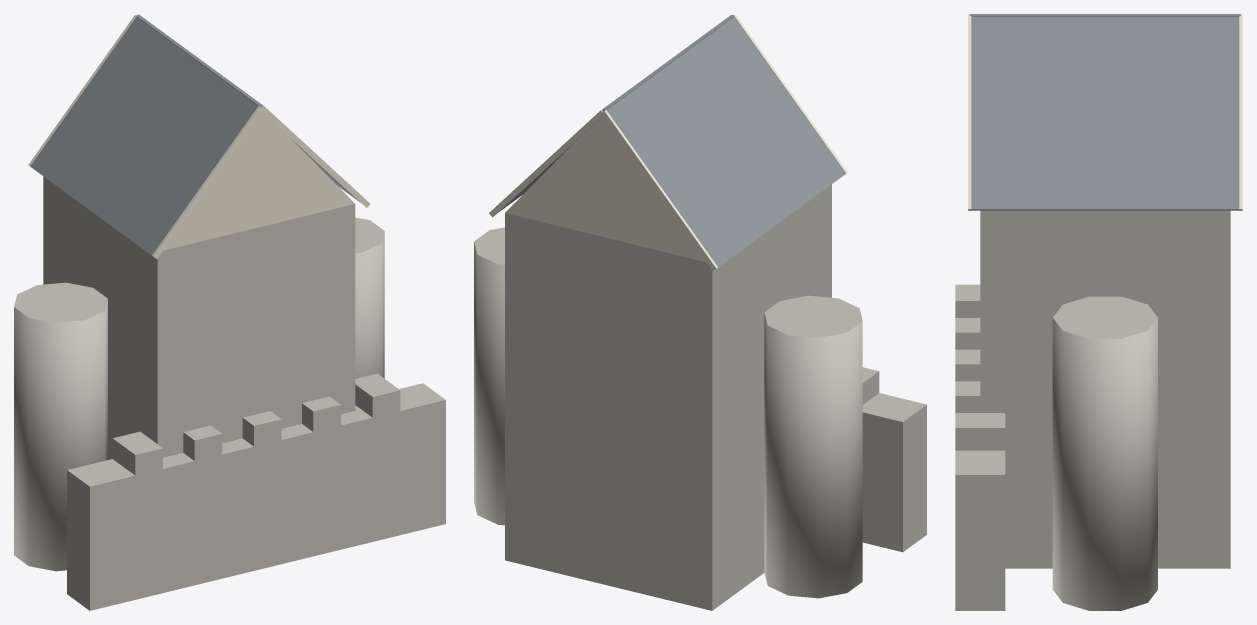
The model's file is rhine-castle_lod1.glb.
3 views of the same model, side by side, from view 1: azimuth 30°, elevation 25°; view 2: azimuth 150°, elevation 25°; view 3: azimuth 270°, elevation 25° (orthographic). The views are drawn at different scales.
Visible parts, largest first — view 1: RF_CastleKeep, RF_CastleWall, RF_Roof.001, RF_CastleTurret.001, RF_Gable, RF_CastleTurret, RF_Crenellation.001, RF_Crenellation, RF_Vergeband.001, RF_Crenellation.003, RF_Crenellation.002, RF_Crenellation.004 (+2 smaller); view 2: RF_CastleKeep, RF_Roof.001, RF_CastleTurret.001, RF_Gable.001, RF_CastleWall, RF_CastleTurret, RF_Vergeband.002, RF_Vergeband, RF_Ridge; view 3: RF_CastleKeep, RF_Roof, RF_CastleTurret, RF_CastleWall, RF_Crenellation, RF_Crenellation.003, RF_Crenellation.001, RF_Crenellation.002, RF_Crenellation.004, RF_Ridge, RF_Vergeband, RF_Vergeband.003.
Part boxes in pixels (<box>): RF_CastleKeep: <box>43,176,355,459</box>; RF_CastleWall: <box>67,383,445,610</box>; RF_Roof.001: <box>30,17,257,255</box>; RF_CastleTurret.001: <box>14,282,107,571</box>; RF_Gable: <box>163,112,354,250</box>; RF_CastleTurret: <box>355,217,384,378</box>; RF_Crenellation.001: <box>112,431,162,475</box>; RF_Crenellation: <box>355,373,400,417</box>; RF_Vergeband.001: <box>152,106,263,258</box>; RF_Crenellation.003: <box>242,411,281,446</box>; RF_Crenellation.002: <box>183,425,222,460</box>; RF_Crenellation.004: <box>302,396,340,431</box>; RF_CastleKeep: <box>505,184,831,610</box>; RF_Roof.001: <box>606,17,845,267</box>; RF_CastleTurret.001: <box>764,295,862,598</box>; RF_Gable.001: <box>505,117,705,261</box>; RF_CastleWall: <box>862,393,926,552</box>; RF_CastleTurret: <box>474,227,504,525</box>; RF_Vergeband.002: <box>601,110,717,270</box>; RF_Vergeband: <box>489,109,602,217</box>; RF_Ridge: <box>602,15,734,111</box>; RF_CastleKeep: <box>980,210,1230,568</box>; RF_Roof: <box>970,16,1240,210</box>; RF_CastleTurret: <box>1052,296,1157,610</box>; RF_CastleWall: <box>955,284,1005,610</box>; RF_Crenellation: <box>955,413,1005,450</box>; RF_Crenellation.003: <box>955,349,980,381</box>; RF_Crenellation.001: <box>955,286,980,317</box>; RF_Crenellation.002: <box>955,318,980,349</box>; RF_Crenellation.004: <box>955,381,980,412</box>; RF_Ridge: <box>969,14,1240,16</box>; RF_Vergeband: <box>1239,16,1242,210</box>; RF_Vergeband.003: <box>968,16,971,210</box>.
Size of the model in its own units: 18 by 22.08 by 11.49.
